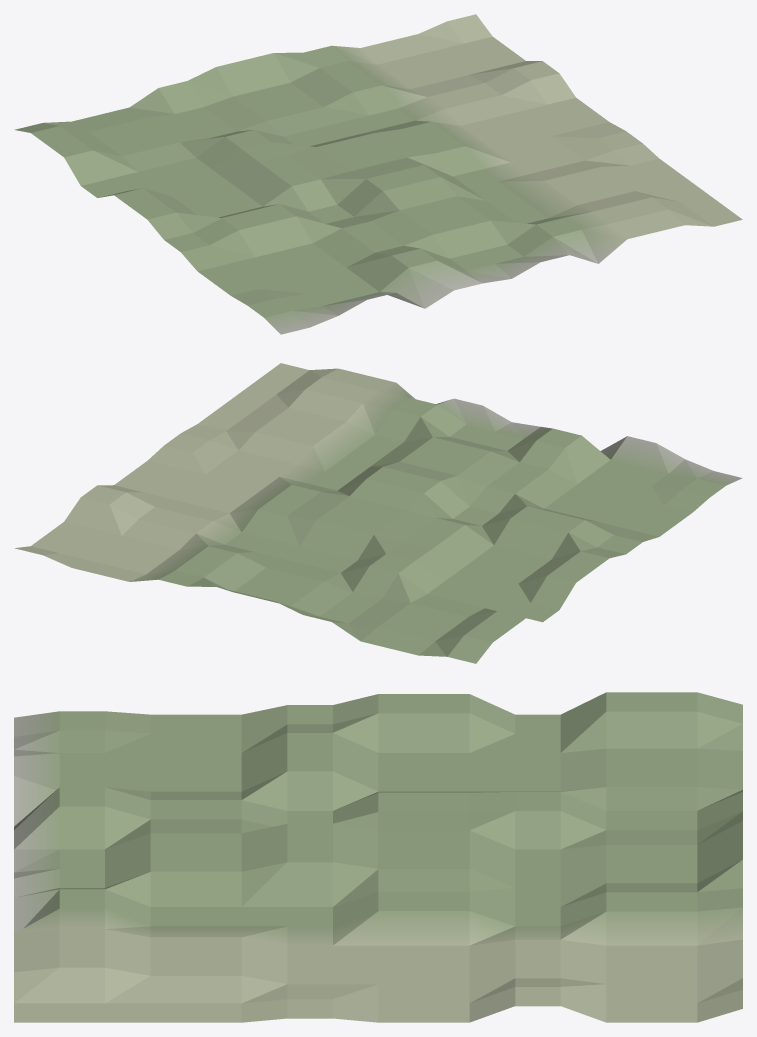
The picture shows the model from 3 angles, top to bottom: view 1: azimuth 30°, elevation 25°; view 2: azimuth 150°, elevation 25°; view 3: azimuth 270°, elevation 25°; orthographic projection. The views are drawn at different scales.
Size of the model in its own units: 32 by 2.15 by 32.
